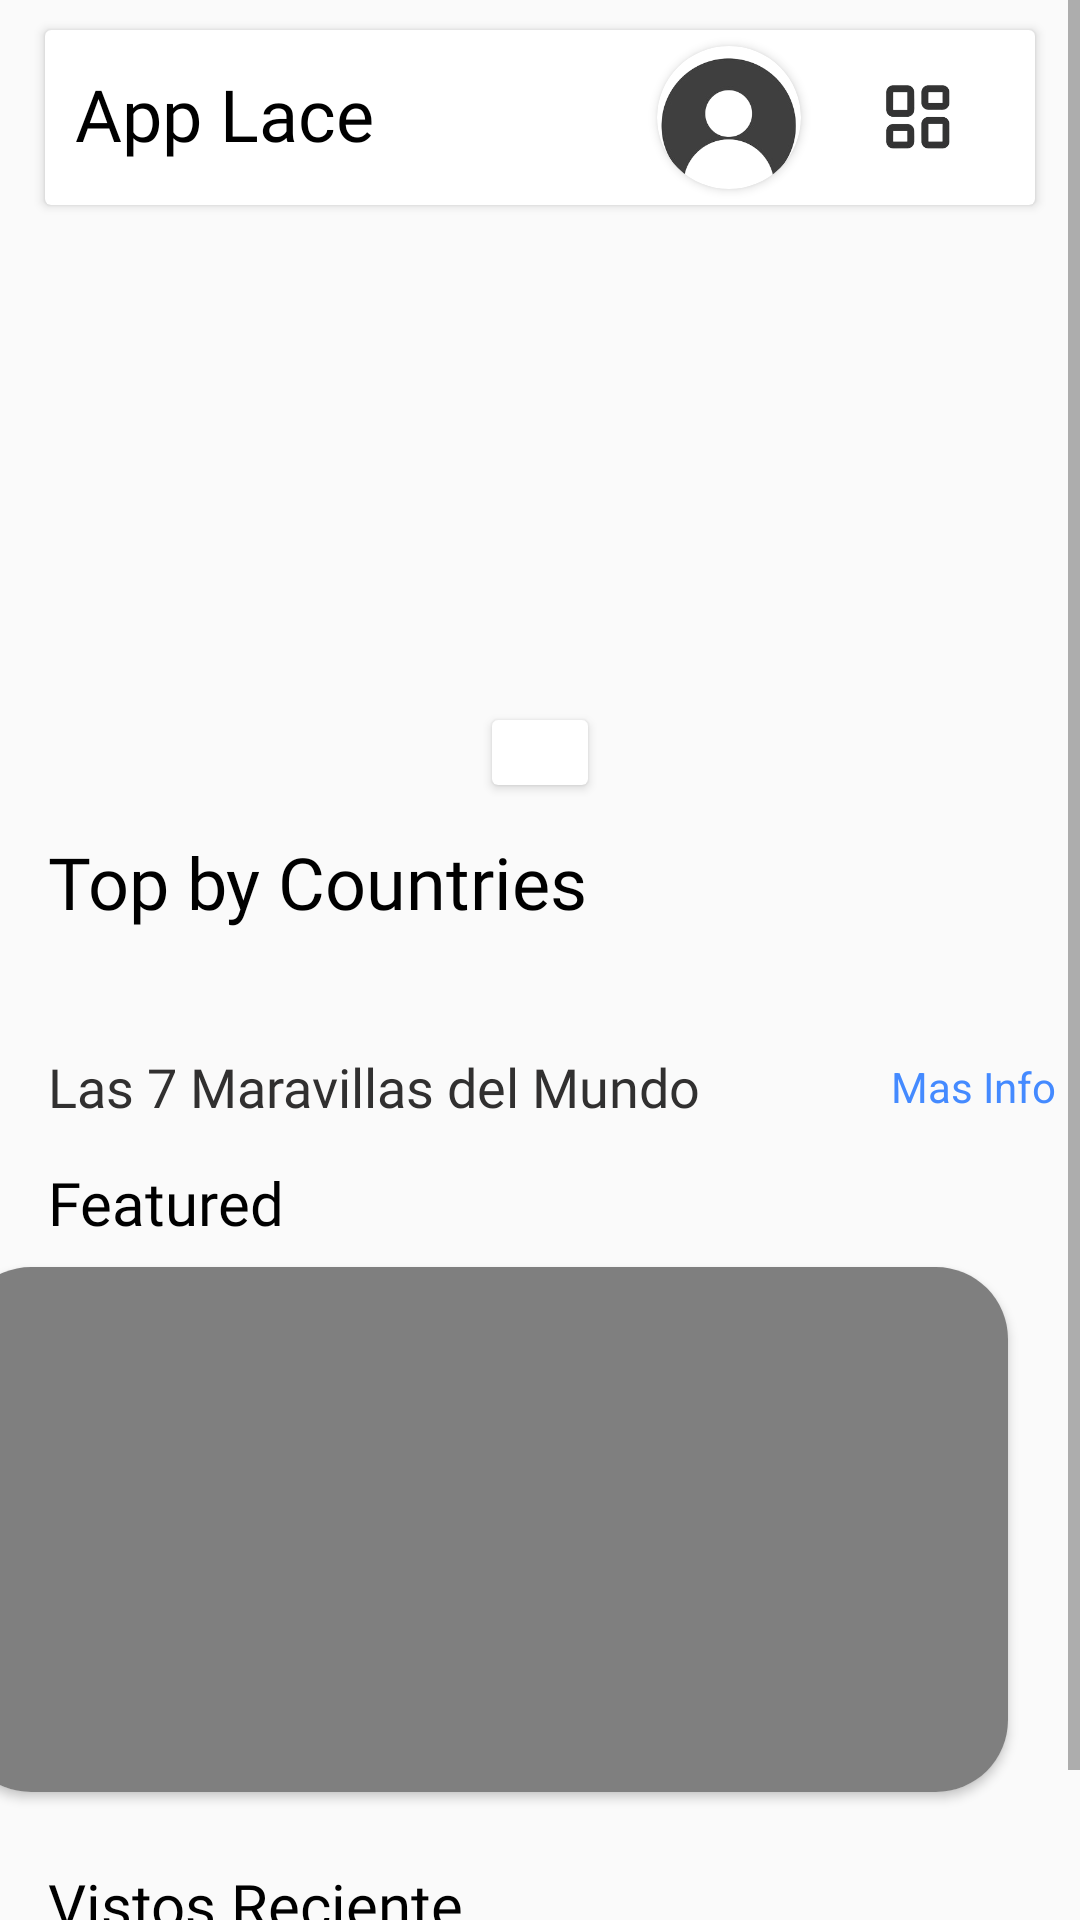

Screen size 1080px x 1920px. Icon name, then its center in pixels as (x,y):
accounticon: (728,116)
configicon: (918,117)
